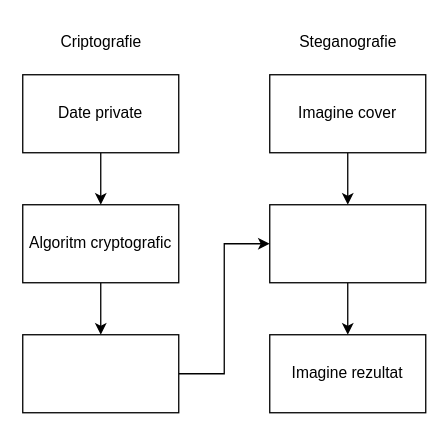
Some shapes in this 448 by 435 pixel diagram are drawn without their labels. Each missing label, with the box of its shape:
Algoritm steganografic: (268, 203, 426, 283)
Date criptate: (21, 333, 179, 413)
